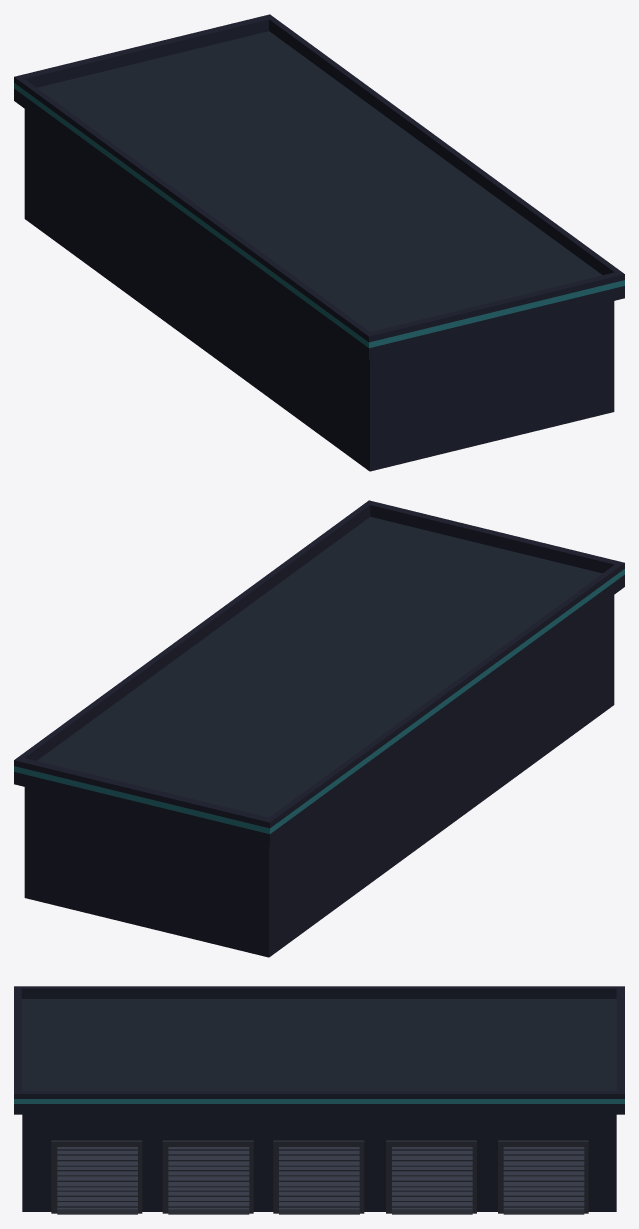
Rendered from Building_StorageUnits02.fbx.
The picture shows the model from 3 angles, top to bottom: view 1: azimuth 30°, elevation 25°; view 2: azimuth 150°, elevation 25°; view 3: azimuth 270°, elevation 25°; orthographic projection. The views are drawn at different scales.
Parts seen in each view (by area): view 1: Cube.629; view 2: Cube.629; view 3: Cube.629.
Part boxes in pixels (box(x1,y1,x2,y2)): Cube.629: box(14, 14, 624, 471); Cube.629: box(14, 500, 624, 957); Cube.629: box(14, 986, 624, 1214).
Bounding box in the file's own units: 967 × 507 × 2323.
